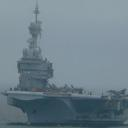Portanaves: (3, 1, 128, 127)
